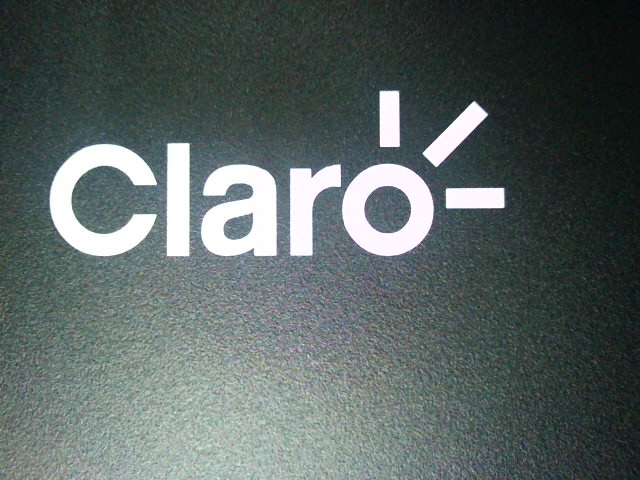BC_Claor: (34, 78, 526, 268)
